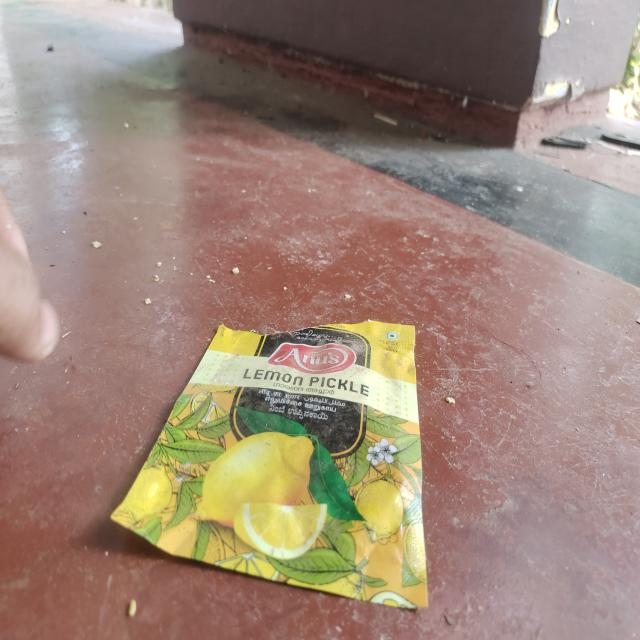plastic: (108, 314, 430, 618)
